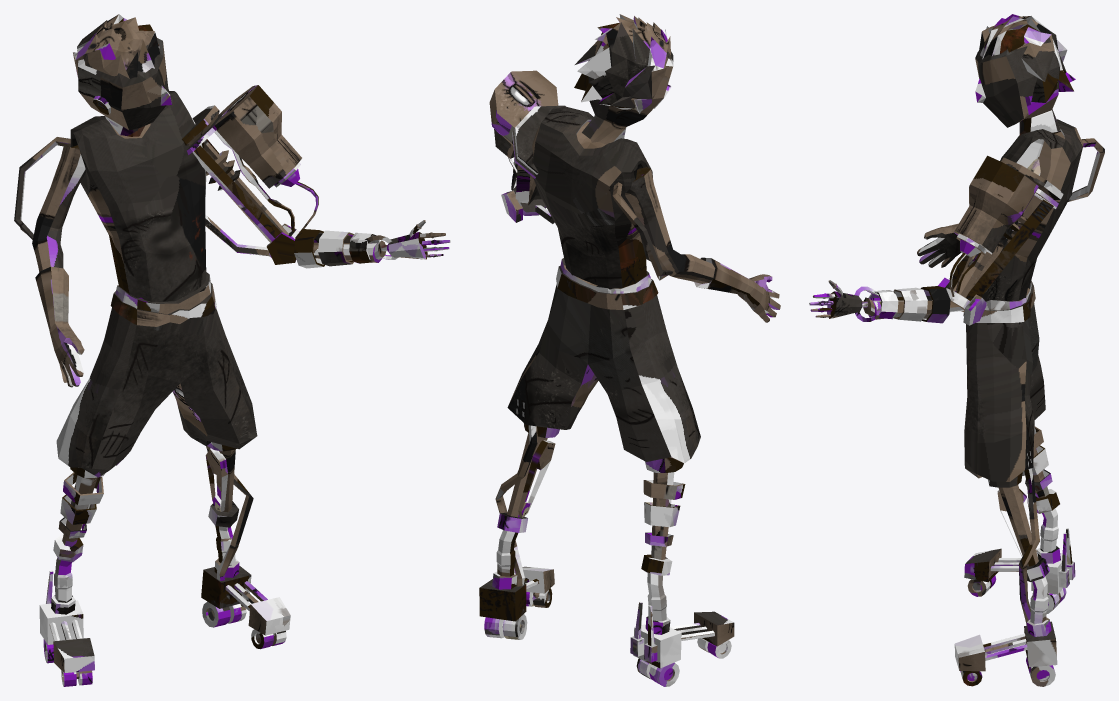
The model's file is CyborgFINALAnimation_000017.obj.
The picture shows the model from 3 angles, left to right: view 1: azimuth 30°, elevation 25°; view 2: azimuth 150°, elevation 25°; view 3: azimuth 270°, elevation 25°; orthographic projection. The views are drawn at different scales.
Visible parts, largest first — view 1: CyborgMesh_Cube.002; view 2: CyborgMesh_Cube.002; view 3: CyborgMesh_Cube.002.
Part boxes in pixels (<box>): CyborgMesh_Cube.002: <box>14,14,450,686</box>; CyborgMesh_Cube.002: <box>479,14,780,686</box>; CyborgMesh_Cube.002: <box>809,14,1104,686</box>.
Size of the model in its own units: 4.96 by 9.56 by 4.19.
